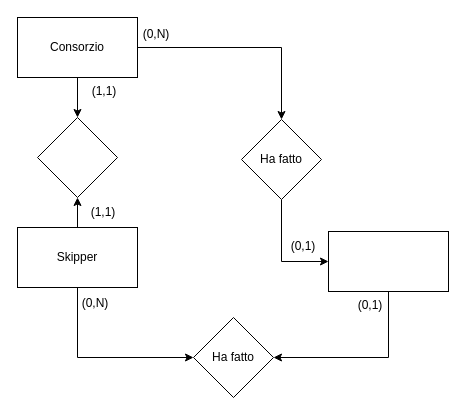
Image size: 466x415. Some labels were removed from this diagram. Each missing label, with the box of its shape:
HA: (36, 116, 118, 198)
Regata storica: (328, 230, 448, 292)
